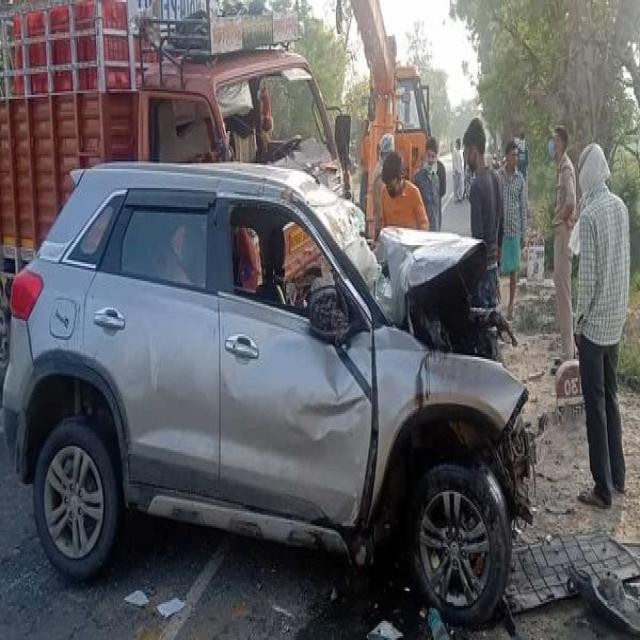accident: (4, 165, 535, 624)
